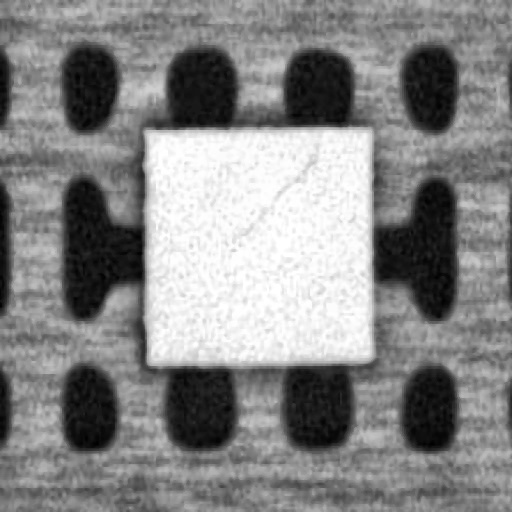DIE_CRACK: (234, 149, 317, 236)
